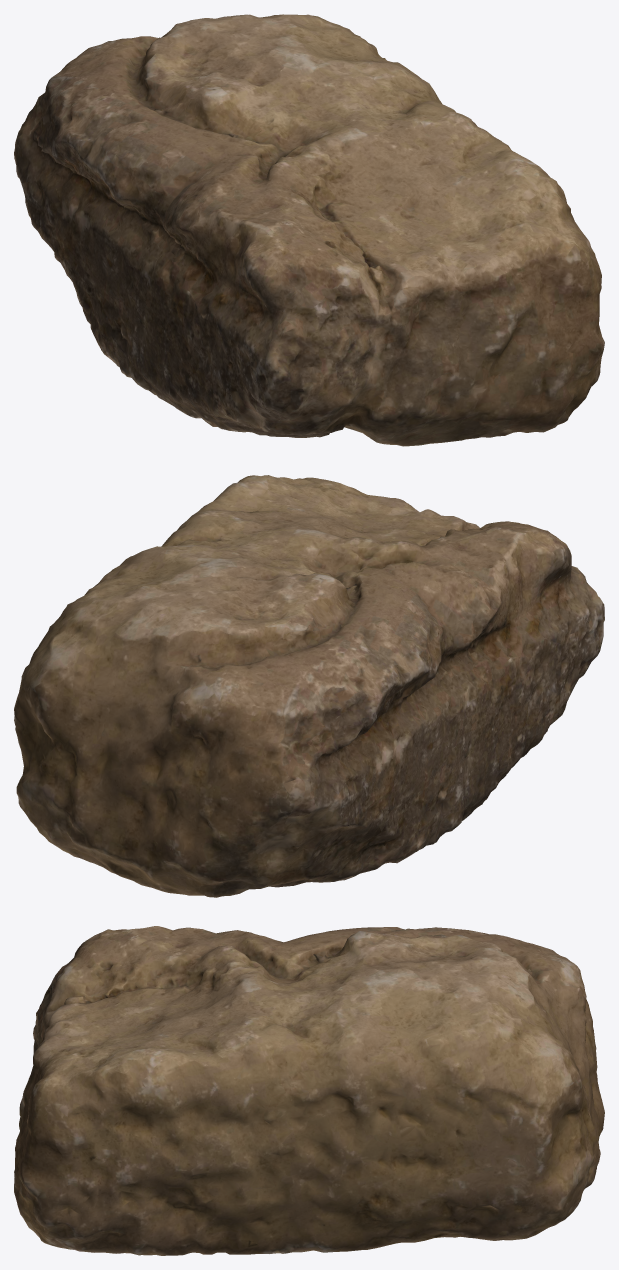
3 renders of one model, top to bottom at view 1: azimuth 30°, elevation 25°; view 2: azimuth 150°, elevation 25°; view 3: azimuth 270°, elevation 25°, orthographic. The views are drawn at different scales.
Visible parts, largest first — view 1: HS17_25K; view 2: HS17_25K; view 3: HS17_25K.
Boxes of the visible parts, bbox=[...] form: HS17_25K: bbox=[14, 14, 604, 446]; HS17_25K: bbox=[14, 475, 604, 897]; HS17_25K: bbox=[14, 926, 604, 1255].
Size of the model in its own units: 0.1869 by 0.1338 by 0.3036.
Materials: 1 (1 with a texture image).
